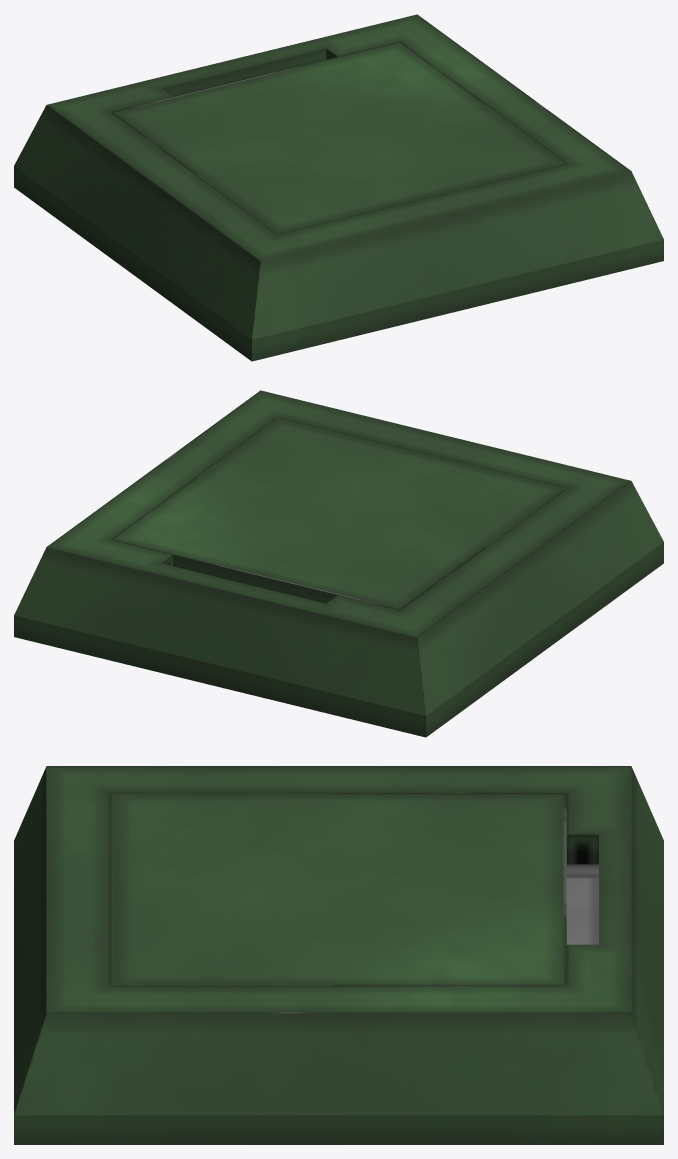
File: silo_hatch.obj
The picture shows the model from 3 angles, top to bottom: view 1: azimuth 30°, elevation 25°; view 2: azimuth 150°, elevation 25°; view 3: azimuth 270°, elevation 25°; orthographic projection. The views are drawn at different scales.
Parts seen in each view (by area): view 1: Frame, Hatch; view 2: Frame, Hatch; view 3: Frame, Hatch.
Boxes of the visible parts, x1,y1,x2,y2 form: Frame: (14,14,663,361); Hatch: (112,42,565,233); Frame: (14,390,663,737); Hatch: (112,418,565,609); Frame: (14,766,663,1144); Hatch: (111,793,598,985).
Bounding box in the file's own units: 5 × 1 × 5.
Materials: 1 (1 with a texture image).
